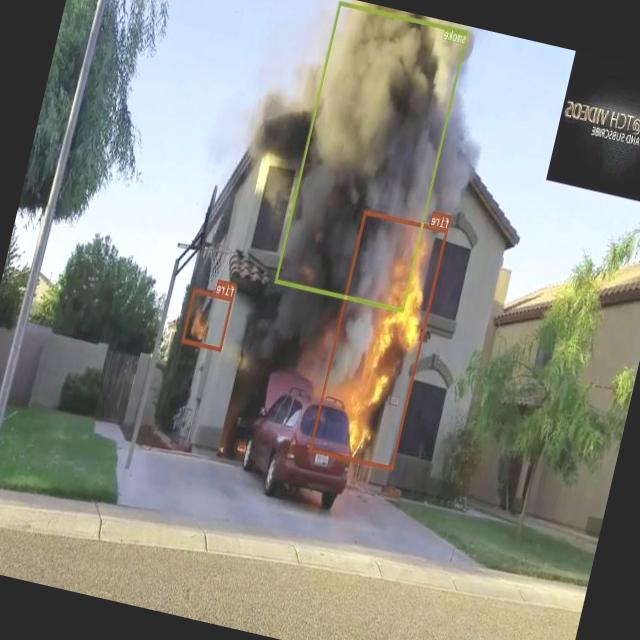fire: (309, 209, 448, 470), (182, 288, 234, 350)
smoke: (274, 0, 468, 311)
